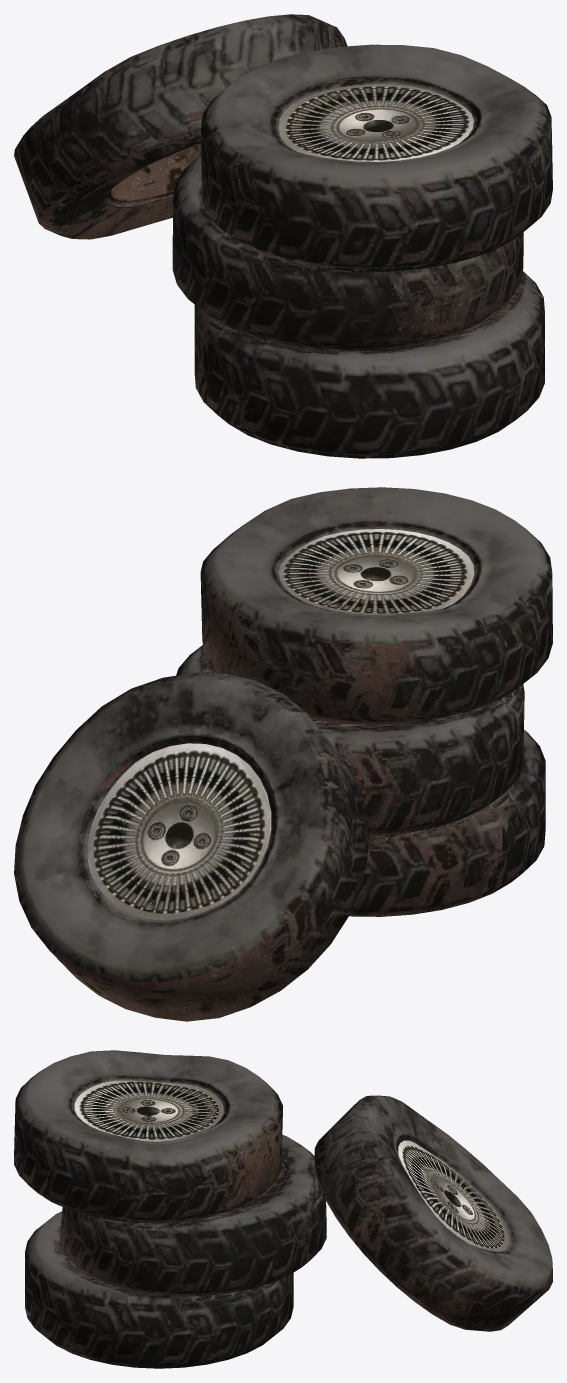
The model's file is tires.glb.
3 renders of one model, top to bottom at view 1: azimuth 30°, elevation 25°; view 2: azimuth 150°, elevation 25°; view 3: azimuth 270°, elevation 25°, orthographic. The views are drawn at different scales.
Visible parts, largest first — view 1: Tires; view 2: Tires; view 3: Tires.
Boxes of the visible parts, bbox=[...] form: Tires: bbox=[14, 14, 552, 458]; Tires: bbox=[14, 487, 552, 1021]; Tires: bbox=[14, 1050, 552, 1368].
Size of the model in its own units: 0.8076 by 0.7315 by 1.61.
Materials: 1 (1 with a texture image).
